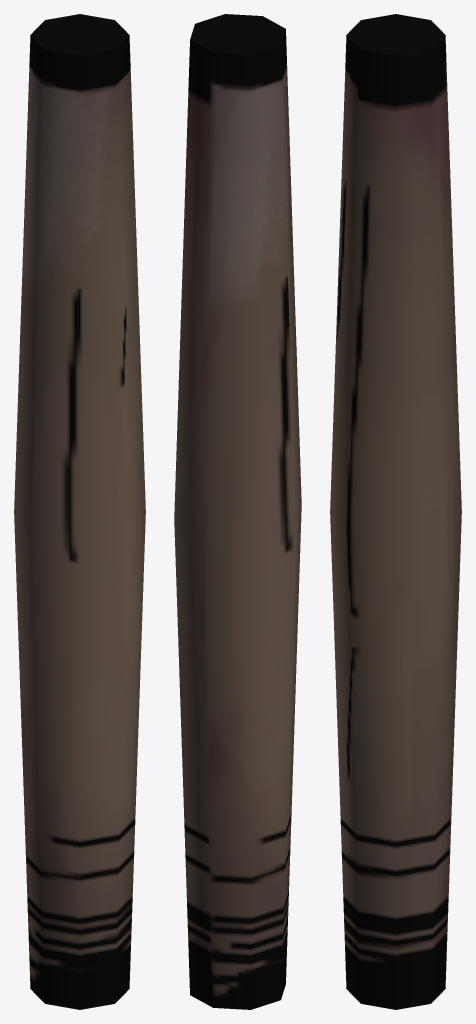
File: armchair_gib4.fbx
3 views of the same model, side by side, from view 1: azimuth 90°, elevation 25°; view 2: azimuth 150°, elevation 25°; view 3: azimuth 270°, elevation 25° (orthographic).
Parts seen in each view (by area): view 1: armchair_gib4; view 2: armchair_gib4; view 3: armchair_gib4.
Part boxes in pixels (<box>): armchair_gib4: <box>14,14,145,1009</box>; armchair_gib4: <box>174,14,301,1009</box>; armchair_gib4: <box>330,14,461,1009</box>.
Size of the model in its own units: 15.09 by 121 by 15.09.
